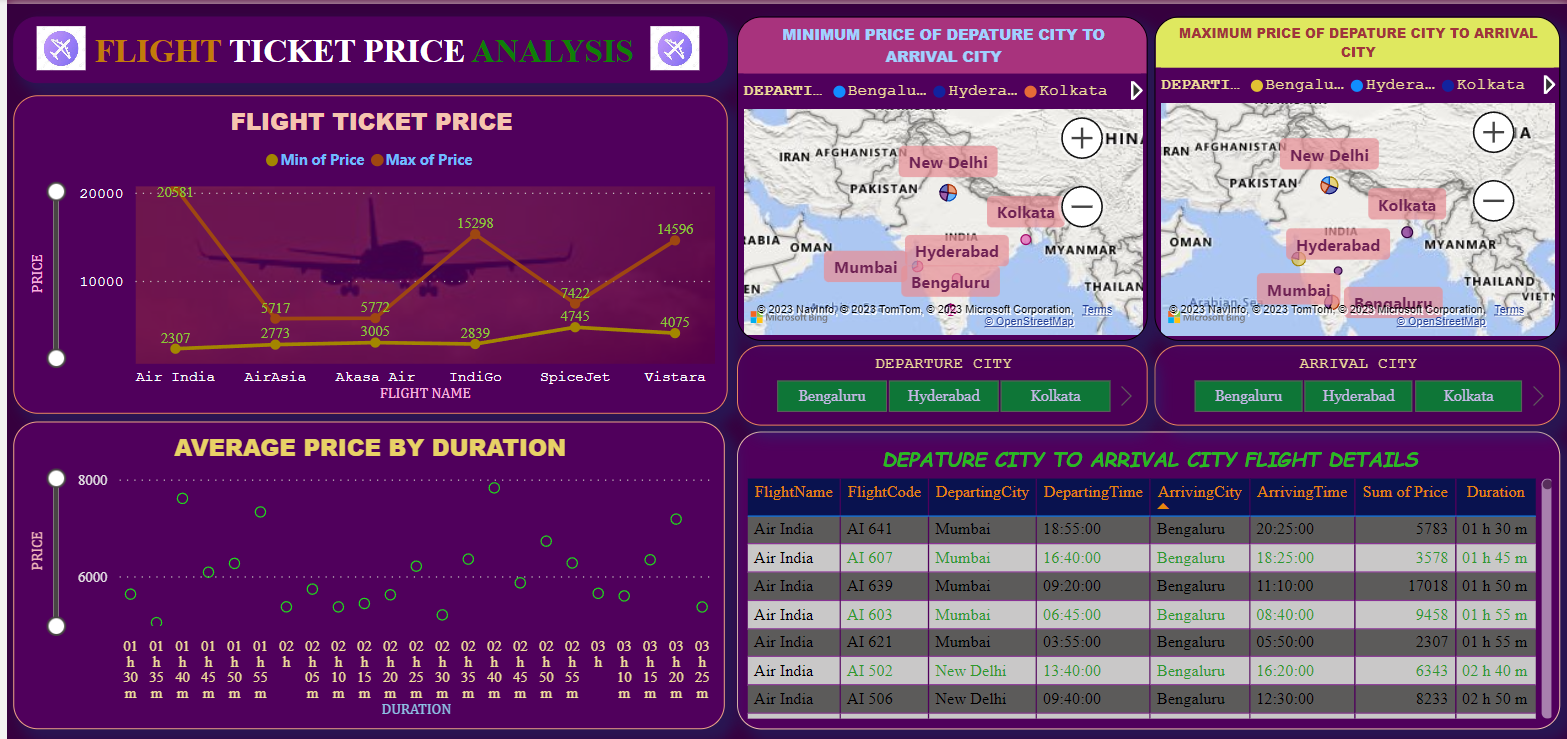

The dashboard page shown, as its layout file describes it:
{"tool":"powerbi","page":{"name":"FLIGHT TICKET PRICE ANALYSIS","canvas":[1275,600],"ordinal":0},"visuals":[{"type":"textbox","box":[5.6,10,583.3,54.4],"z":0},{"type":"image","box":[514.4,13.3,50,45.6],"z":1000},{"type":"lineChart","title":"FLIGHT TICKET PRICE ","fields":{"Category":["DATASET.FlightName"],"Y":["Min(DATASET.Price)","Max(DATASET.Price)1"]},"box":[5.6,74.4,583.3,260],"z":2000},{"type":"map","title":"MINIMUM PRICE OF DEPATURE CITY TO ARRIVAL CITY","fields":{"Category":["DATASET.DepartingCity"],"Size":["Min(DATASET.Price)"],"Series":["DATASET.ArrivingCity"]},"box":[595.6,10,335.6,264.4],"z":3000},{"type":"map","title":"MAXIMUM PRICE OF DEPATURE CITY TO ARRIVAL CITY","fields":{"Category":["DATASET.ArrivingCity"],"Series":["DATASET.DepartingCity"],"Size":["Max(DATASET.Price)"]},"box":[936.7,10,331.1,264.4],"z":4000},{"type":"tableEx","title":"DEPATURE CITY TO ARRIVAL CITY FLIGHT DETAILS","fields":{"Values":["DATASET.FlightName","DATASET.FlightCode","DATASET.DepartingCity","DATASET.DepartingTime","DATASET.ArrivingCity","DATASET.ArrivingTime","Sum(DATASET.Price)","DATASET.Duration"]},"box":[595.6,348.9,672.2,243.3],"z":5000},{"type":"slicer","title":"ARRIVAL CITY","fields":{"Values":["DATASET.DepartingCity"]},"box":[936.7,278.9,331.1,65.6],"z":6000},{"type":"slicer","title":"DEPARTURE CITY","fields":{"Values":["DATASET.ArrivingCity"]},"box":[595.6,278.9,335.6,65.6],"z":7000},{"type":"scatterChart","title":"AVERAGE PRICE BY DURATION","fields":{"X":["DATASET.Duration"],"Y":["Avg(DATASET.Price)"]},"box":[5.6,341.1,581.1,251.1],"z":8000},{"type":"image","box":[16.7,13.3,50,45.6],"z":9000}]}

Visuals, with their boxes in screenshot pixels (x1, y1, x2, y2), scaled from the page's 1275x600 canvas onto the 1567x739 screenshot:
textbox: detection(7, 12, 724, 79)
image: detection(632, 16, 694, 73)
"FLIGHT TICKET PRICE " lineChart: detection(7, 92, 724, 412)
"MINIMUM PRICE OF DEPATURE CITY TO ARRIVAL CITY" map: detection(732, 12, 1144, 338)
"MAXIMUM PRICE OF DEPATURE CITY TO ARRIVAL CITY" map: detection(1151, 12, 1558, 338)
"DEPATURE CITY TO ARRIVAL CITY FLIGHT DETAILS" tableEx: detection(732, 430, 1558, 729)
"ARRIVAL CITY" slicer: detection(1151, 344, 1558, 424)
"DEPARTURE CITY" slicer: detection(732, 344, 1144, 424)
"AVERAGE PRICE BY DURATION" scatterChart: detection(7, 420, 721, 729)
image: detection(21, 16, 82, 73)
